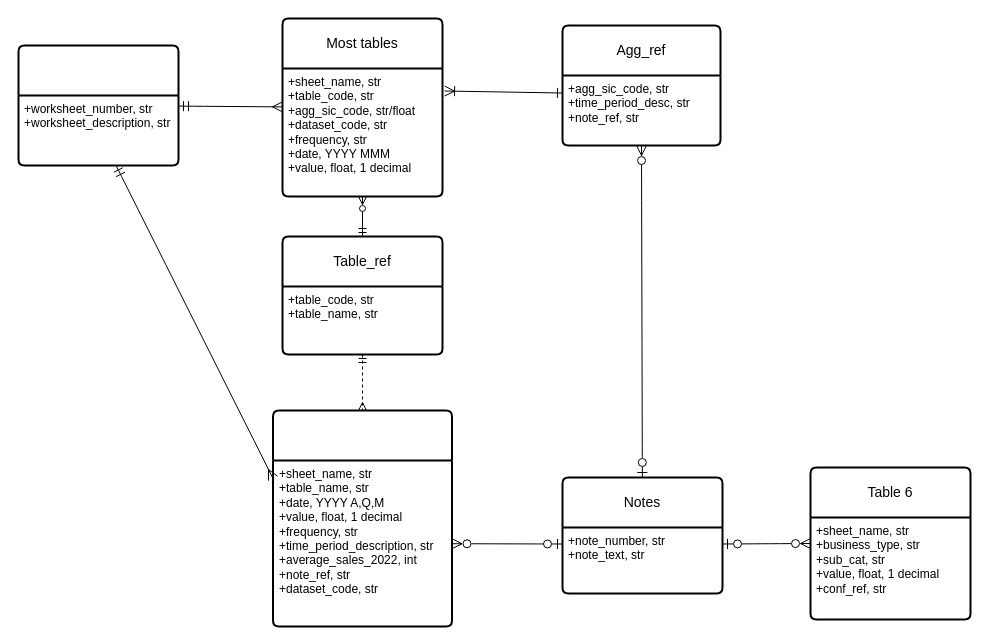
Some shapes in this 988 by 644 pixel diagram are drawn without their labels. Each missing label, with the box of its shape:
Contents: (17, 44, 179, 166)
Table 5: (272, 409, 452, 627)
